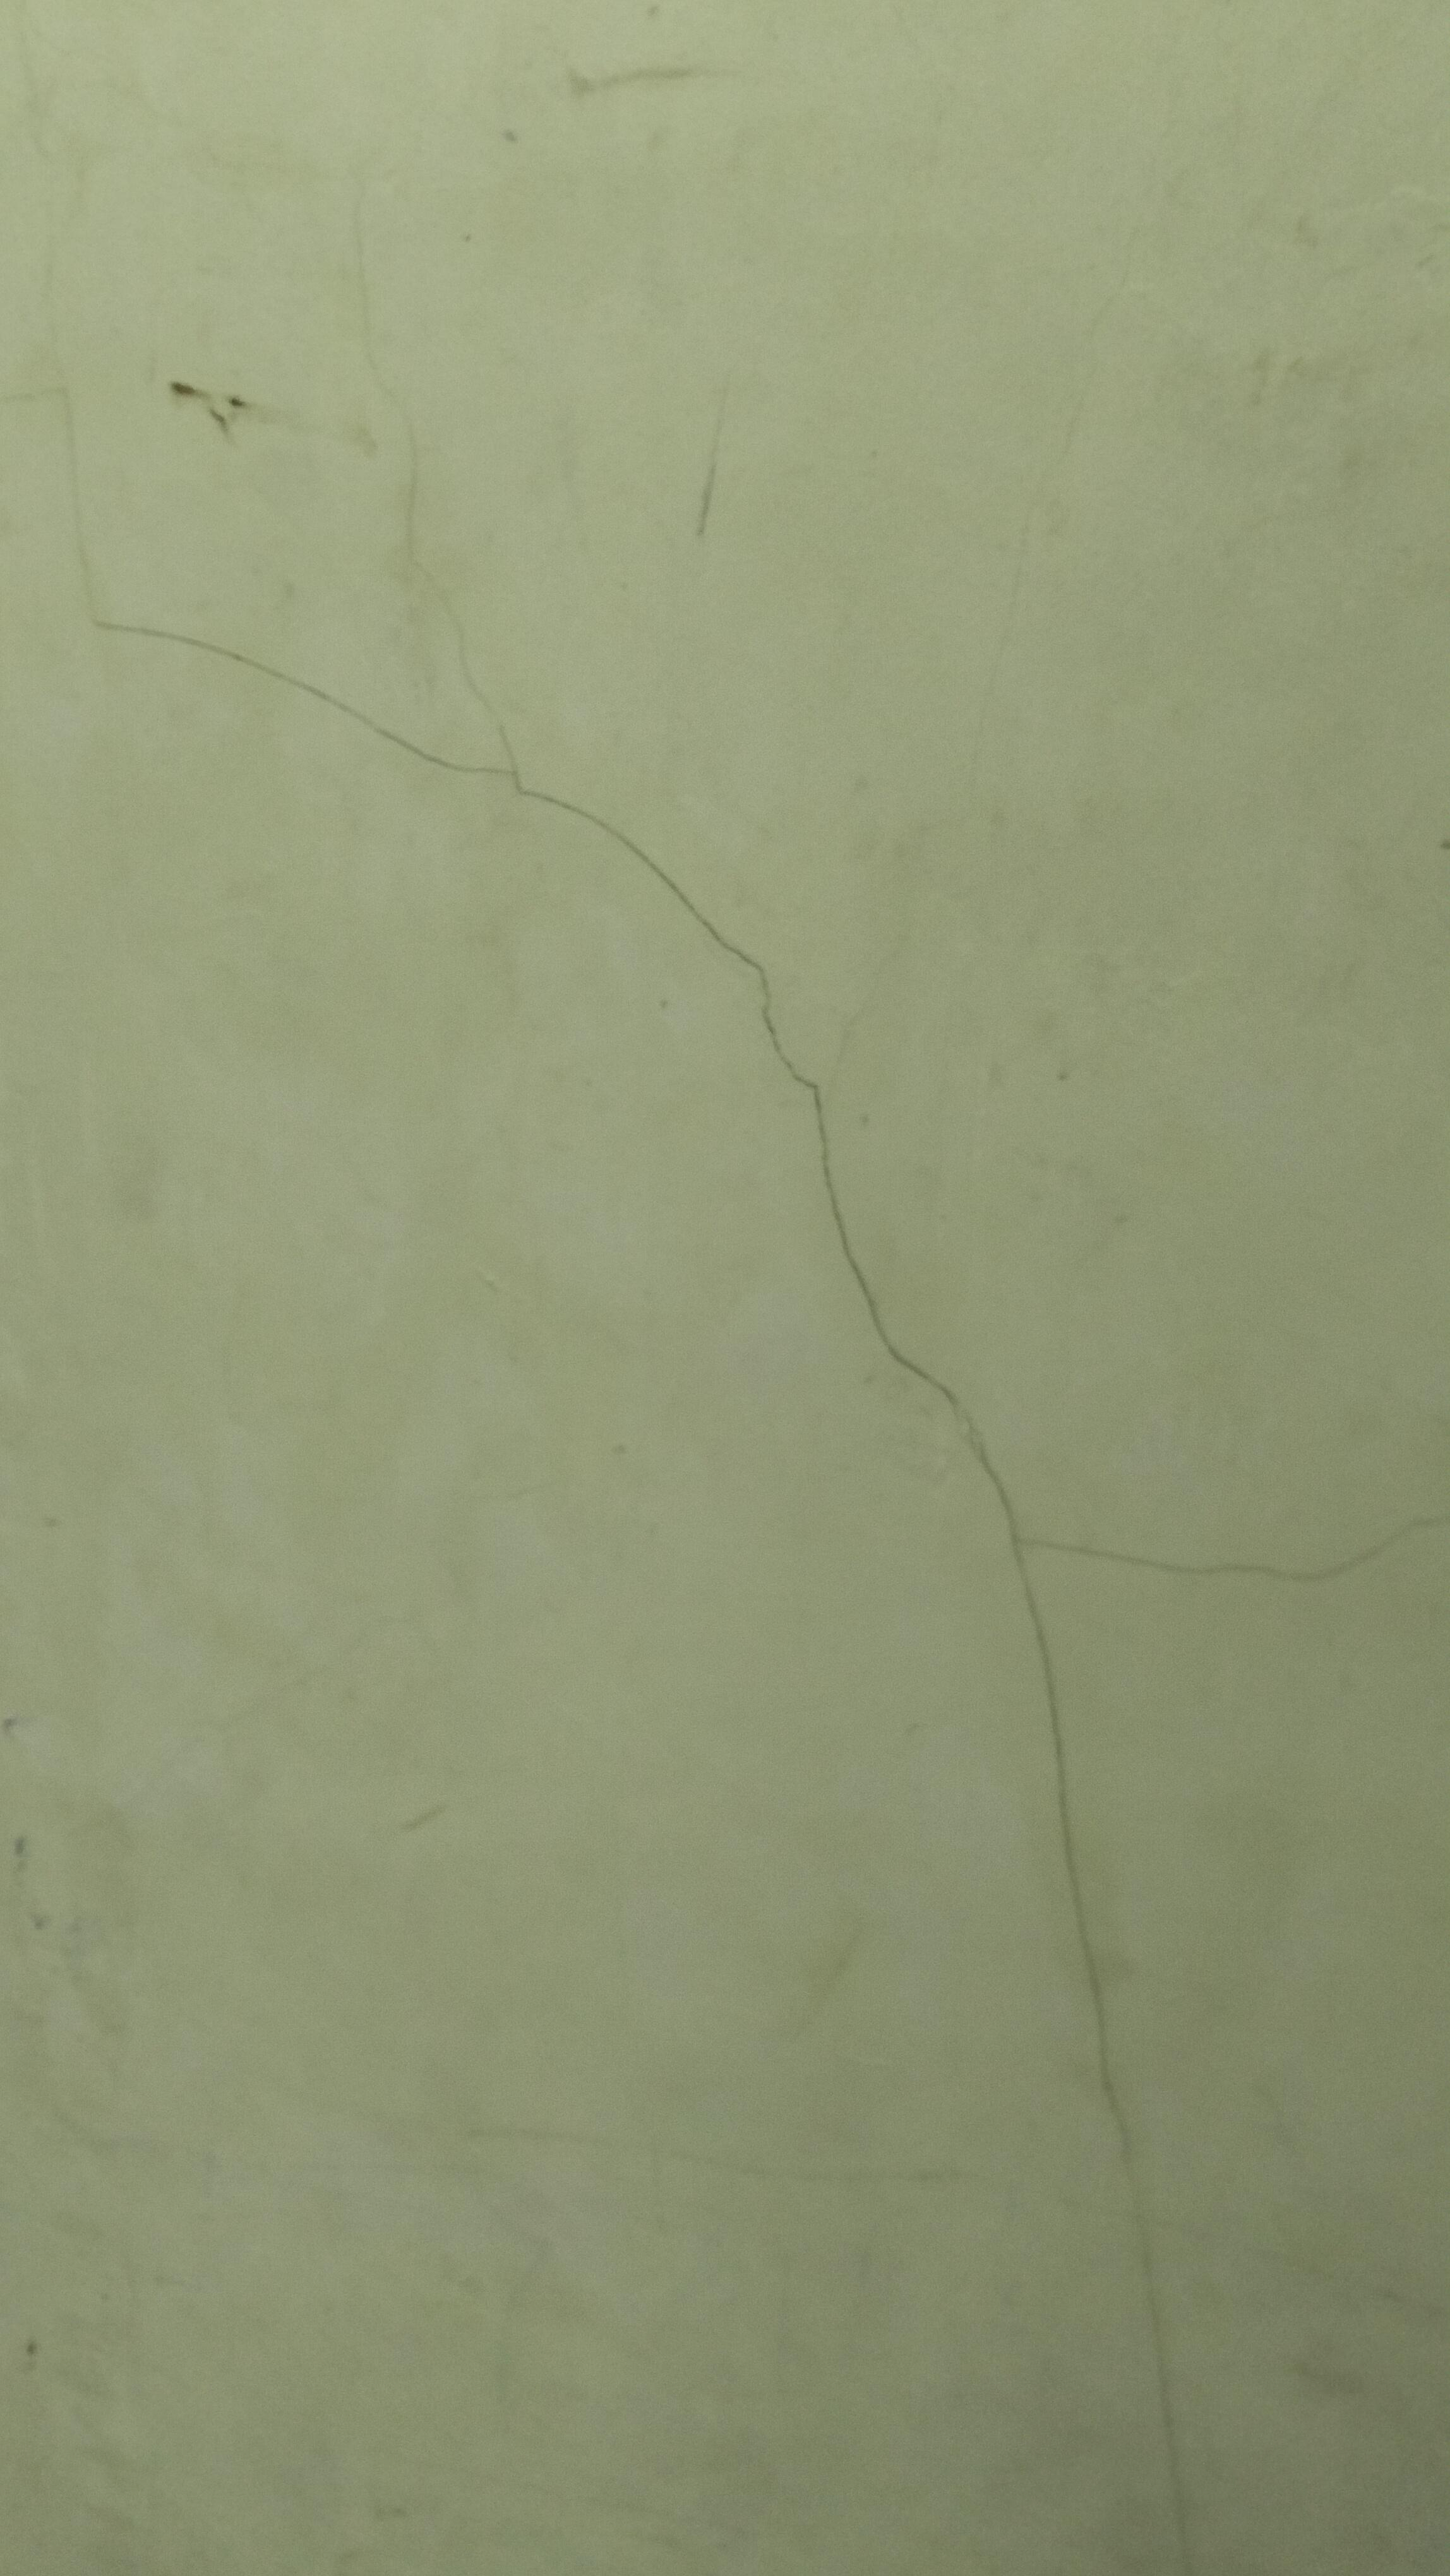Crack: (630, 839, 1064, 1552), (1000, 1513, 1271, 2576), (53, 483, 666, 867)
